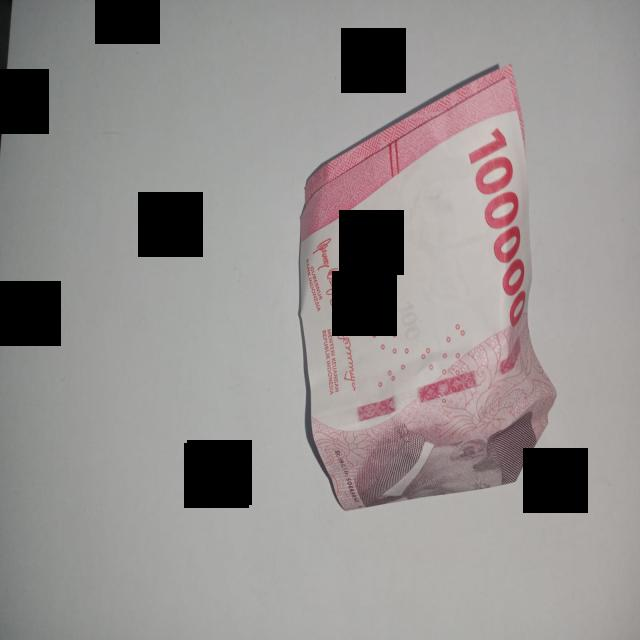seratusribu rupiah: (300, 65, 556, 510)
